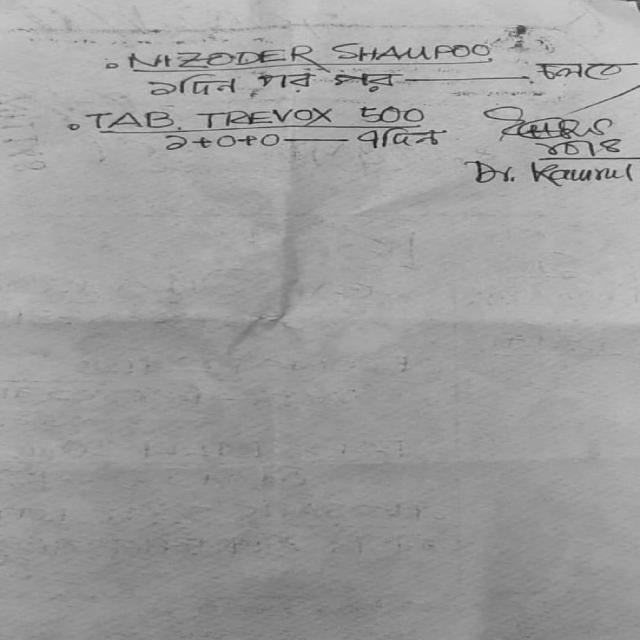medicine: (112, 42, 330, 78), (182, 100, 354, 130)
